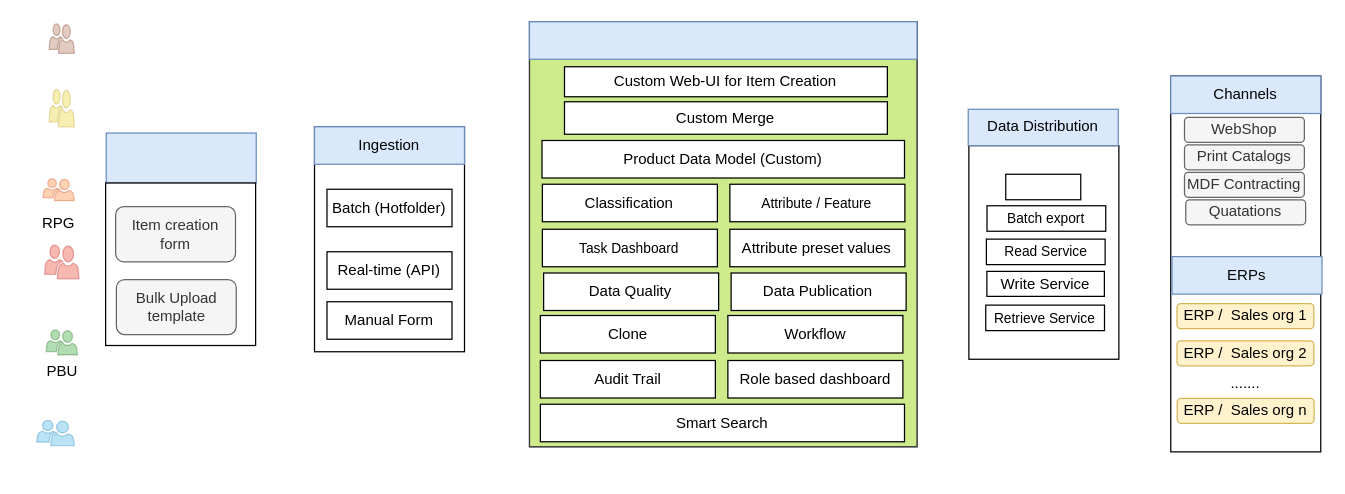
This 1345x494 diagram has some shape labels left out. Each missing label, with the box of its shape:
Administrator: (48, 23, 74, 53)
Informatica Product 360: (528, 20, 917, 59)
LPG: (43, 244, 79, 279)
MDM: (48, 88, 74, 127)
REST API: (1004, 173, 1081, 200)
Sales: (36, 419, 74, 446)
System of Entry: (105, 132, 256, 183)
